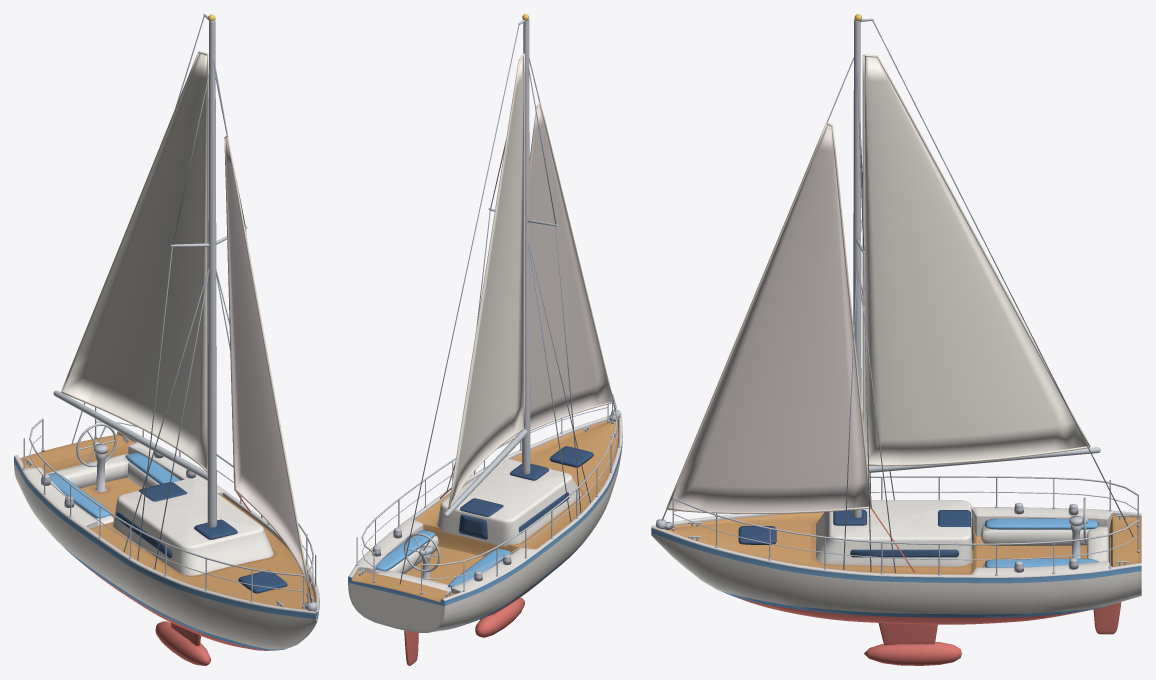
The model's file is sailboat-animated.glb.
The picture shows the model from 3 angles, left to right: view 1: azimuth 30°, elevation 25°; view 2: azimuth 150°, elevation 25°; view 3: azimuth 270°, elevation 25°; orthographic projection. The views are drawn at different scales.
Visible parts, largest first — view 1: sailboat_body, sailboat_boom_mainsail, sailboat_helm_wheel, sailboat_cabin_windows; view 2: sailboat_body, sailboat_boom_mainsail, sailboat_cabin_windows, sailboat_helm_wheel, sailboat_rudder; view 3: sailboat_body, sailboat_boom_mainsail, sailboat_cabin_windows, sailboat_rudder.
Boxes of the visible parts, x1,y1,x2,y2 form: sailboat_body: (14,14,319,665); sailboat_boom_mainsail: (53,51,208,480); sailboat_helm_wheel: (76,423,116,466); sailboat_cabin_windows: (116,512,172,557); sailboat_body: (348,14,622,637); sailboat_boom_mainsail: (444,53,527,517); sailboat_cabin_windows: (459,492,569,539); sailboat_helm_wheel: (404,533,440,572); sailboat_rudder: (404,630,418,665); sailboat_body: (651,14,1141,665); sailboat_boom_mainsail: (862,54,1100,472); sailboat_cabin_windows: (850,517,973,557); sailboat_rudder: (1093,602,1121,634).
Size of the model in its own units: 3.04 by 13.18 by 9.
7 materials, 1 textured.
